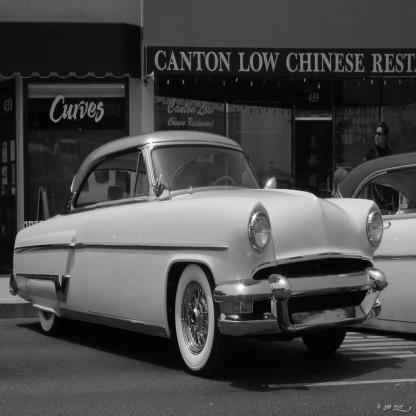car: (22, 115, 398, 412)
